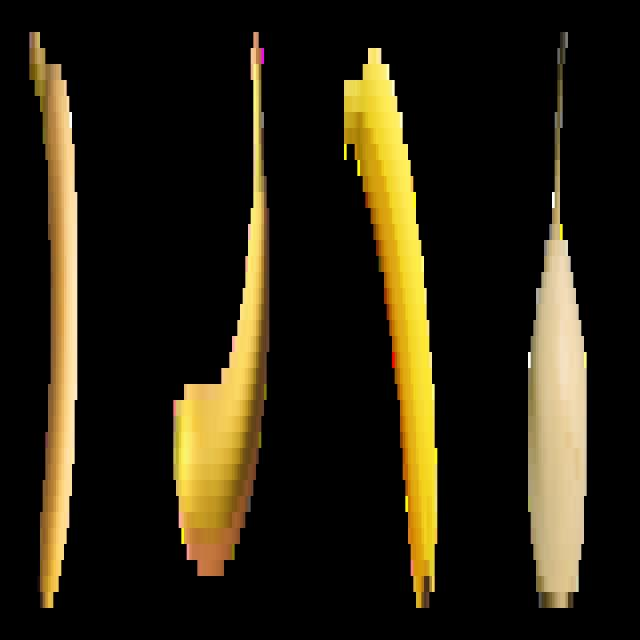bananas: (338, 35, 443, 626), (172, 29, 273, 598), (24, 13, 87, 621)
pear: (525, 10, 587, 621)
